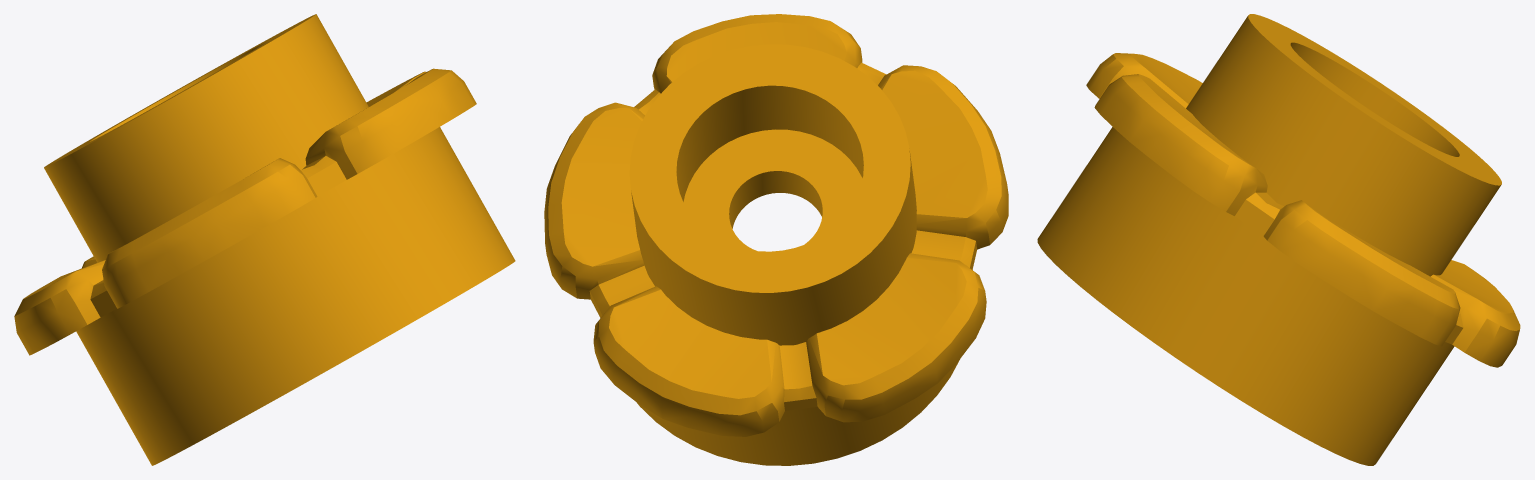
File: plate_round1*1_with)_flower_edge(5_petals)_yellow.obj
The picture shows the model from 3 angles, left to right: view 1: azimuth 30°, elevation 25°; view 2: azimuth 150°, elevation 25°; view 3: azimuth 270°, elevation 25°; orthographic projection. The views are drawn at different scales.
Bounding box in the file's own units: 19.4 × 18.02 × 19.01.
